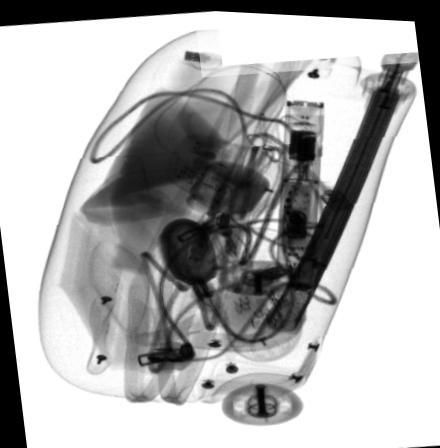Baton: (274, 95, 323, 286)
